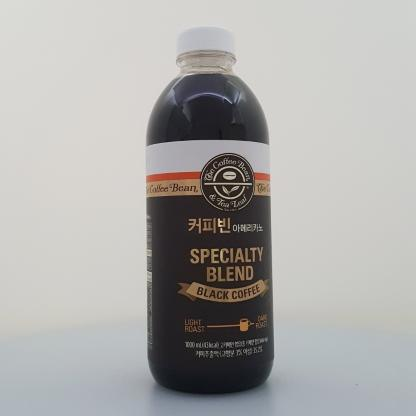--------: (145, 25, 275, 394)
